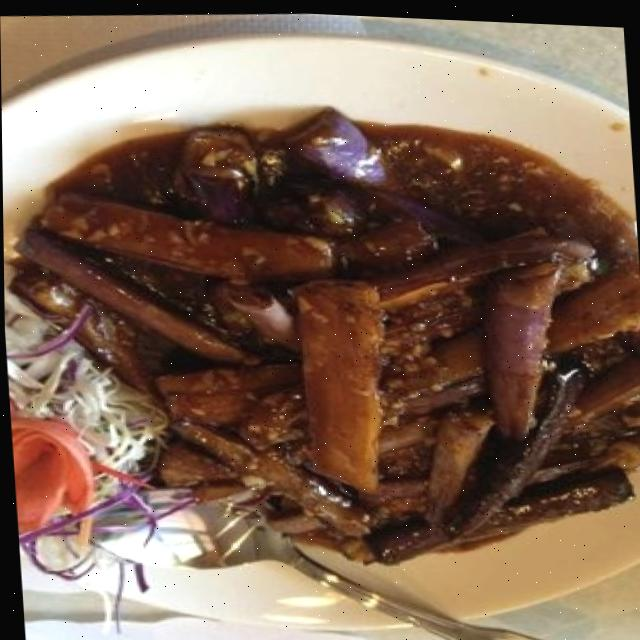鸡蛋料理: (0, 42, 640, 618)
